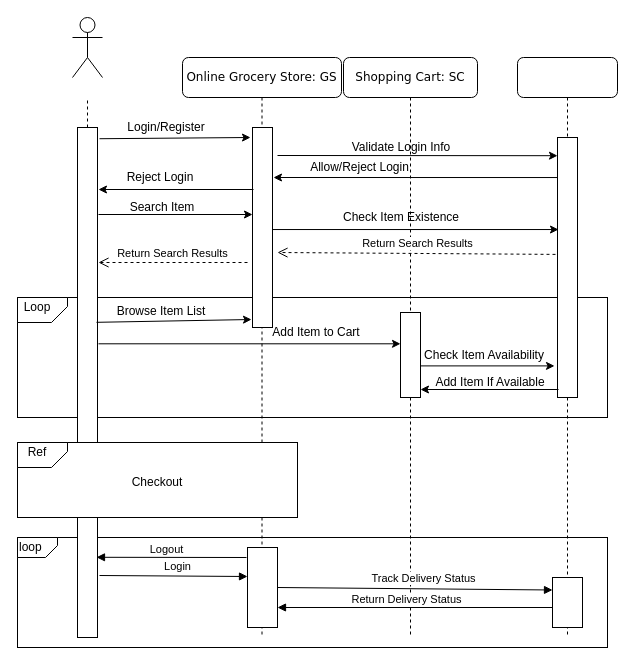
Some shapes in this 635 by 665 pixel diagram are drawn without their labels. The box of each missing label's shape, as (x1, y1, x2, y2) in pixels:
Customer: C: (72, 16, 102, 78)
DataBase: DB: (516, 56, 618, 638)
